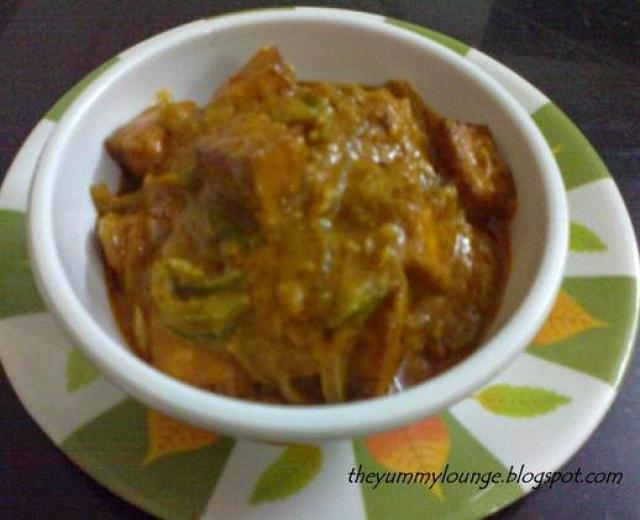kadai paneer: (99, 48, 515, 402)
